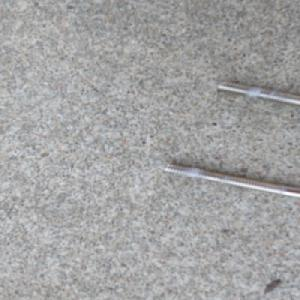ClampPart: (161, 78, 300, 199)
